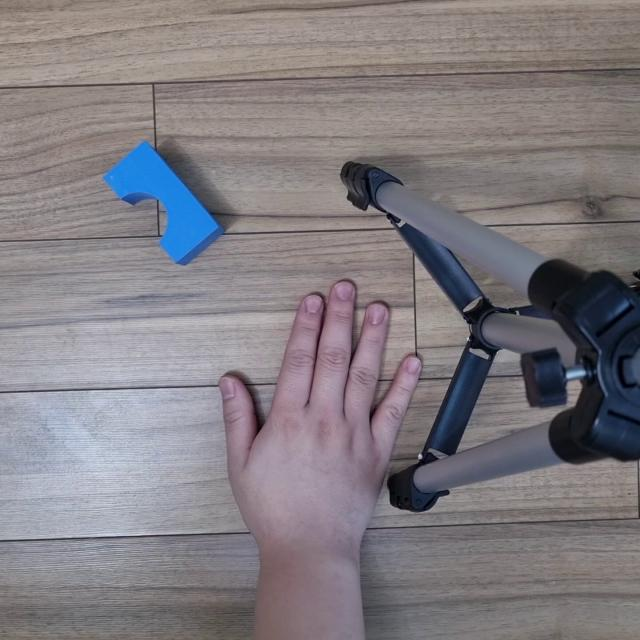block: (102, 132, 227, 268)
hand: (193, 271, 421, 560)
